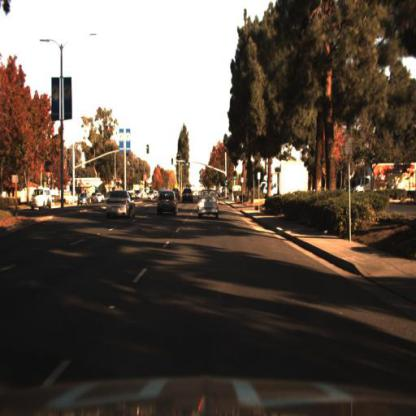car: (104, 187, 139, 221), (196, 188, 220, 221), (156, 190, 181, 221), (31, 188, 54, 214), (30, 190, 57, 211), (76, 191, 96, 211), (180, 186, 196, 207), (76, 193, 92, 209), (172, 187, 183, 206)
trafficLight-Green: (224, 175, 230, 189), (234, 170, 239, 185)
truck: (353, 162, 416, 216), (350, 163, 416, 197)
